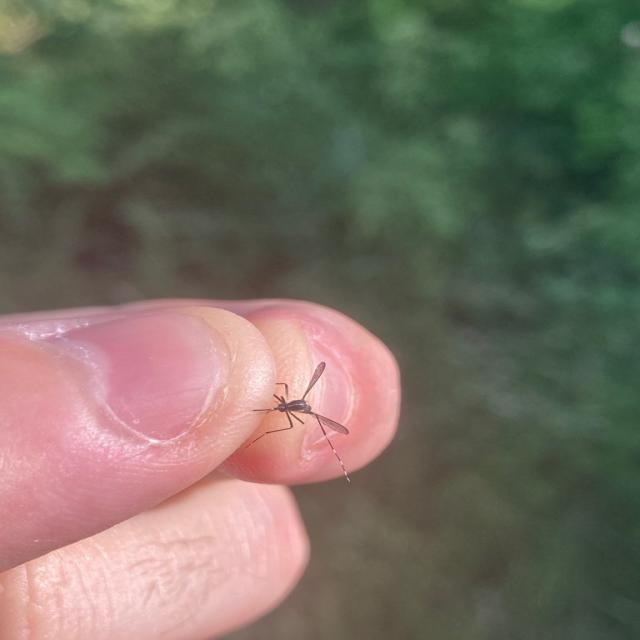albopictus: (238, 354, 352, 458)
